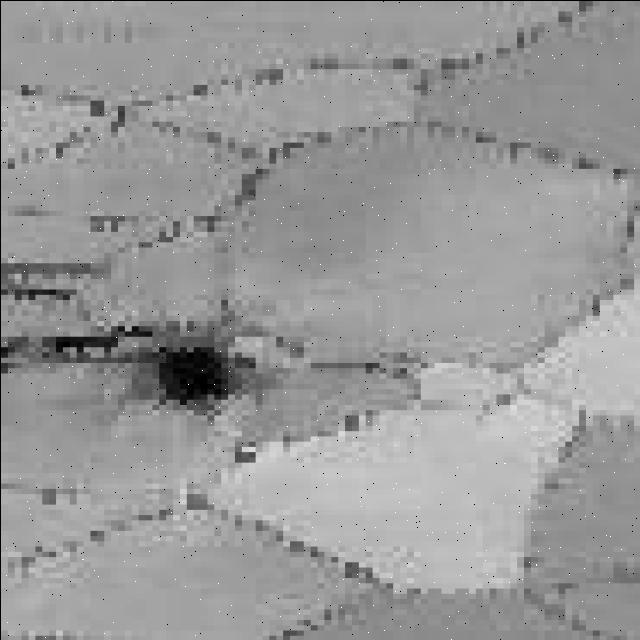good_void: (46, 322, 248, 414)
